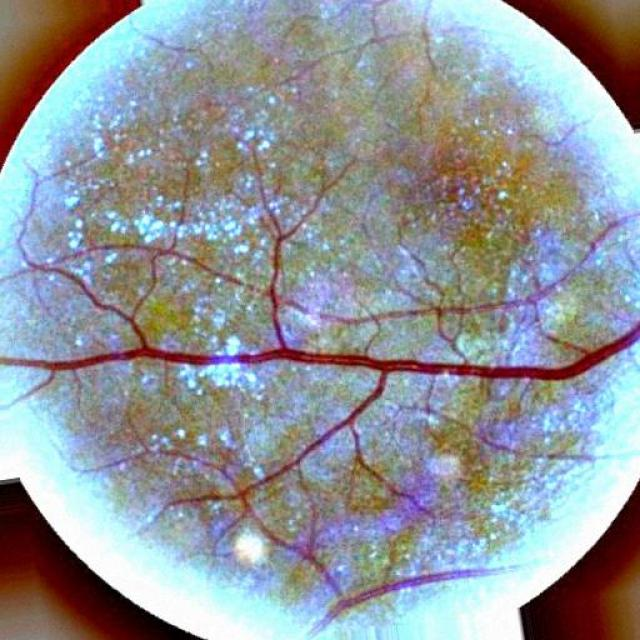Nerves: (0, 160, 639, 625)
